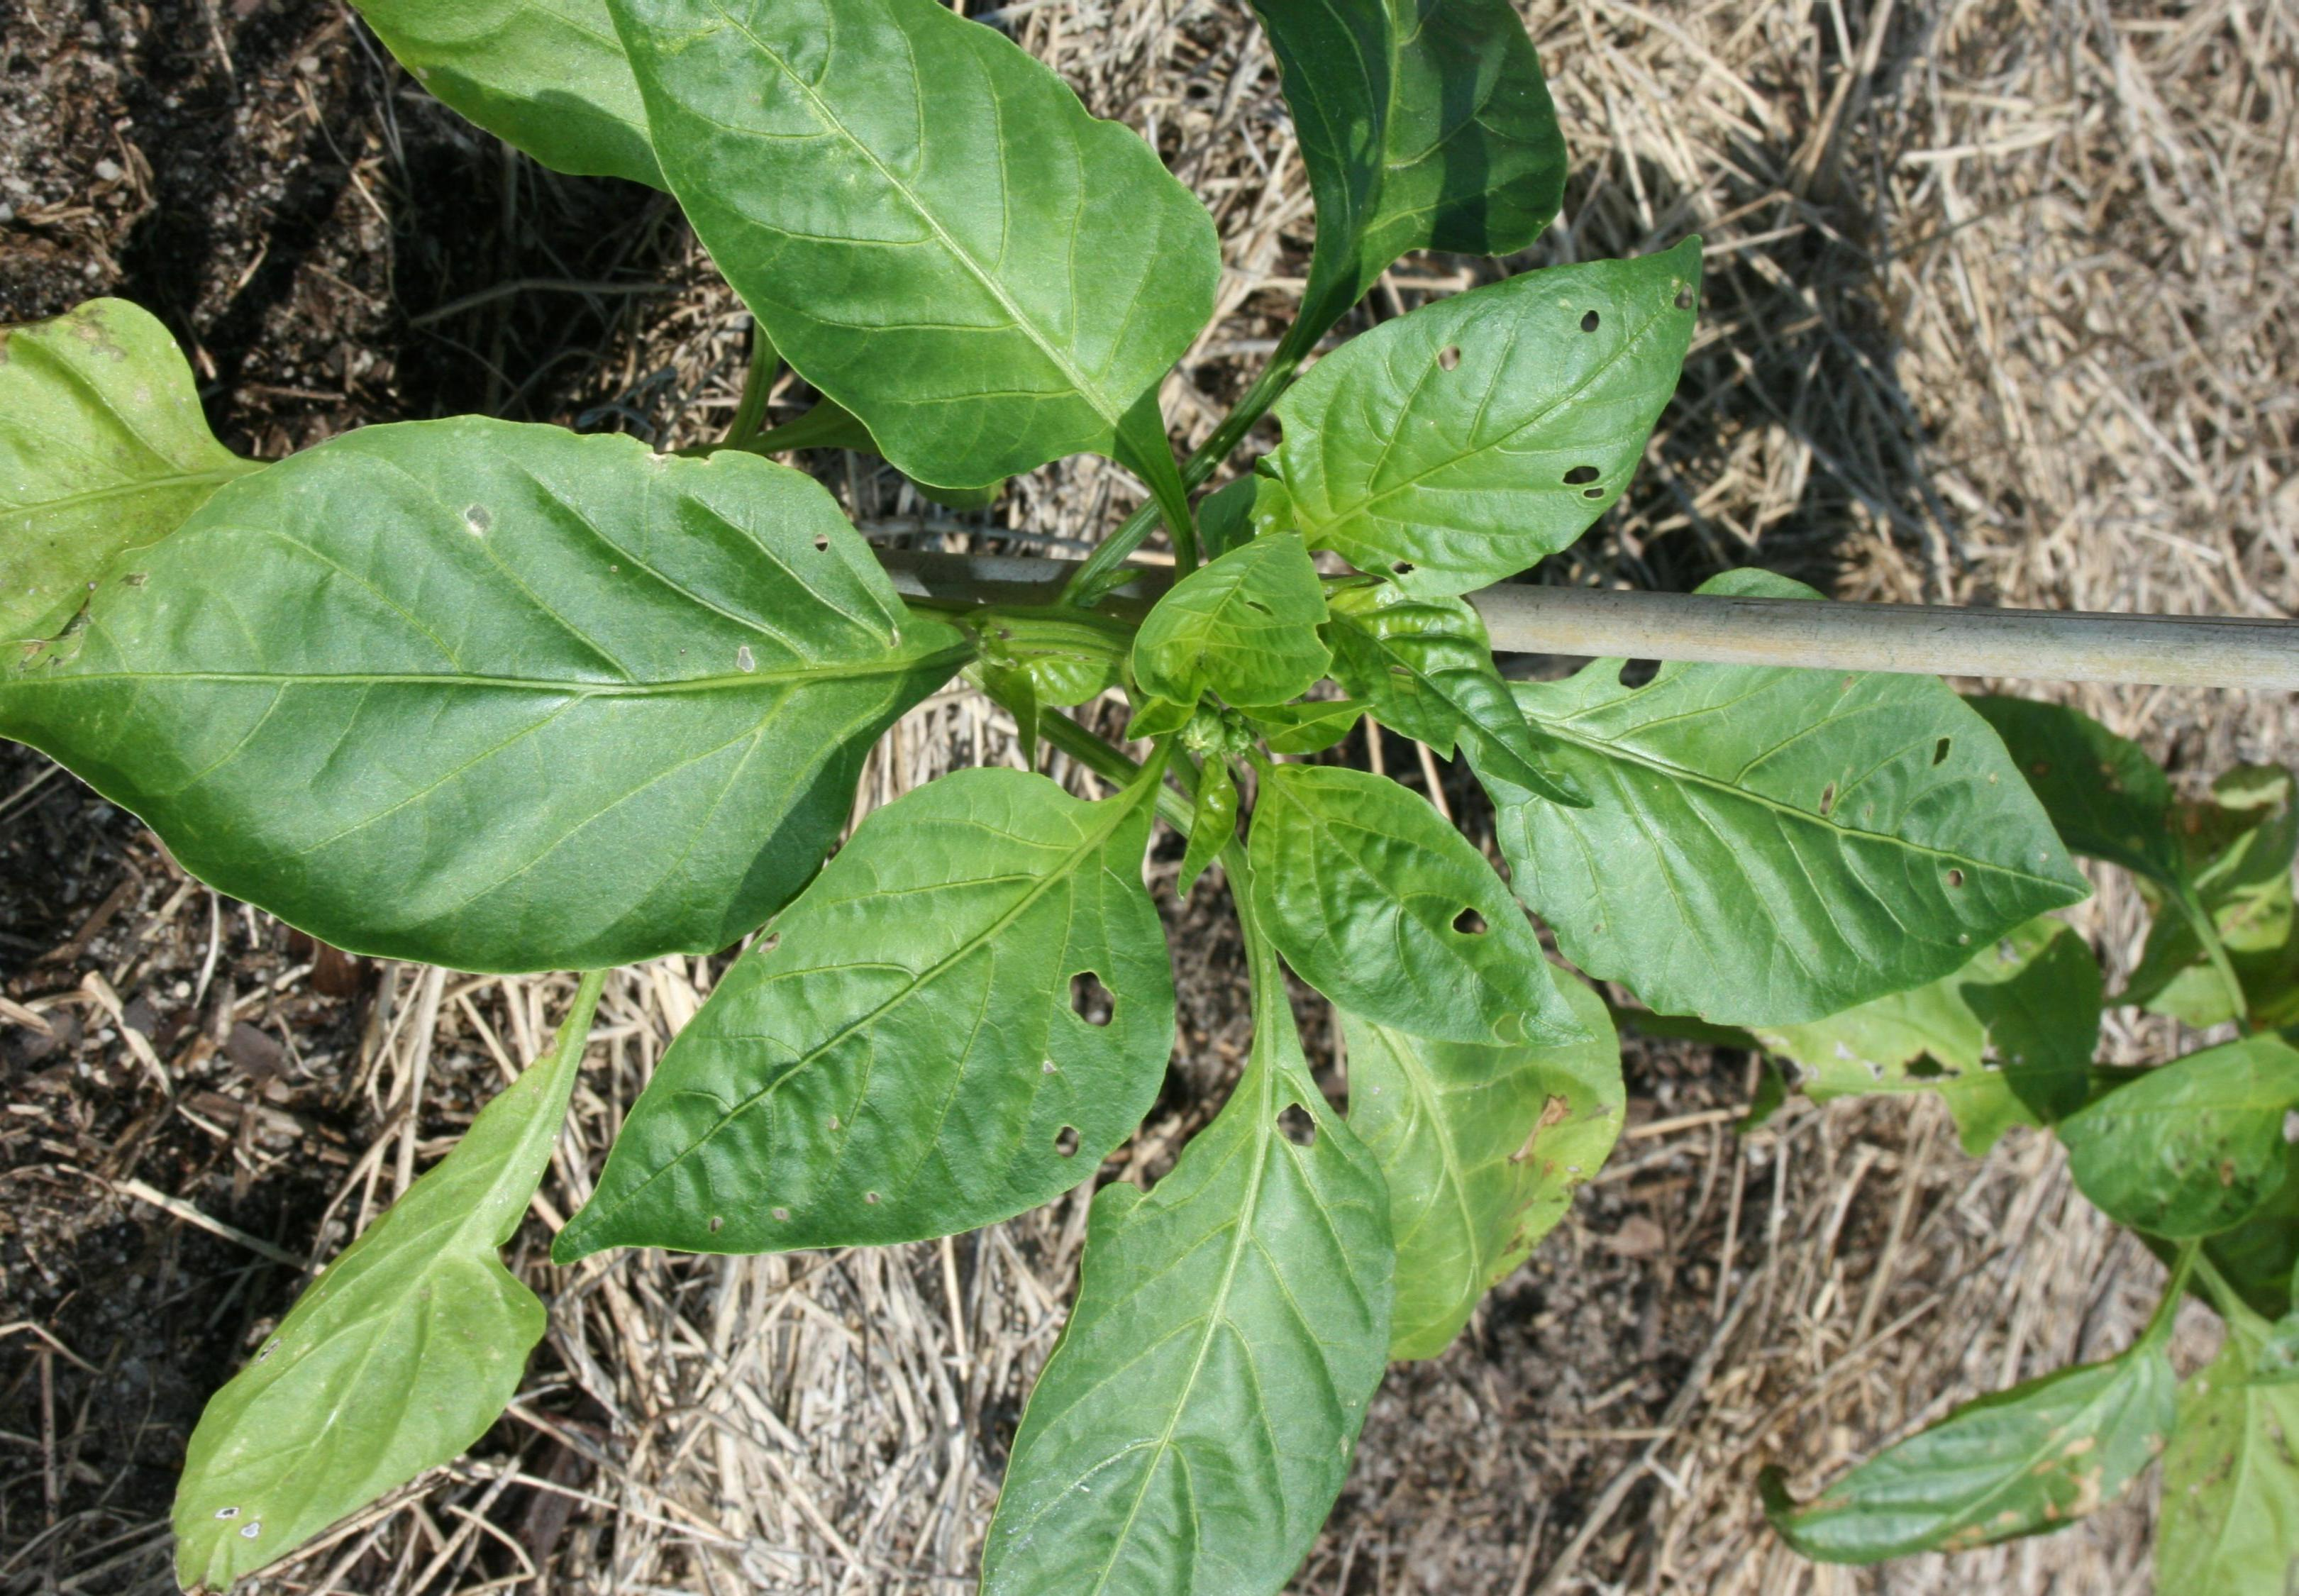Tomato leaf: (0, 440, 917, 960), (529, 768, 1198, 1372), (554, 0, 1219, 522), (175, 990, 631, 1596), (956, 978, 1398, 1596), (1459, 632, 2096, 1058), (1260, 244, 1770, 578)
